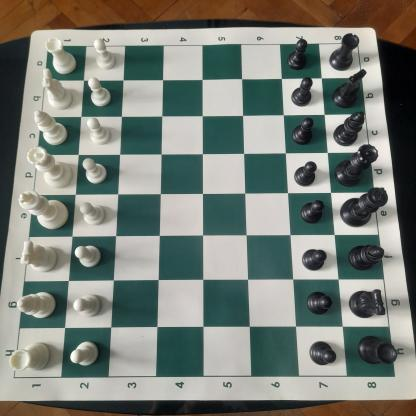black-bishop: (347, 239, 387, 275), (331, 111, 368, 148)
black-king: (337, 186, 390, 229)
black-knight: (331, 69, 370, 109), (348, 284, 390, 320)
black-pawn: (308, 338, 338, 370), (284, 38, 311, 72), (299, 244, 329, 274), (304, 288, 334, 318), (298, 196, 326, 226), (292, 158, 319, 188), (289, 75, 314, 107), (291, 116, 315, 147)
black-queen: (332, 141, 379, 188)
black-rook: (356, 333, 400, 372), (326, 31, 362, 72)
white-bishop: (30, 108, 70, 147), (14, 288, 59, 320)
white-king: (17, 188, 71, 233)
white-knight: (38, 66, 76, 112), (17, 237, 60, 276)
white-pawn: (86, 74, 114, 108), (92, 36, 118, 72), (72, 291, 103, 320), (84, 116, 113, 147), (69, 340, 100, 368), (73, 242, 103, 270), (80, 155, 108, 185), (78, 200, 107, 227)
white-queen: (23, 144, 74, 190)
white-rook: (42, 32, 80, 78), (7, 338, 52, 376)
